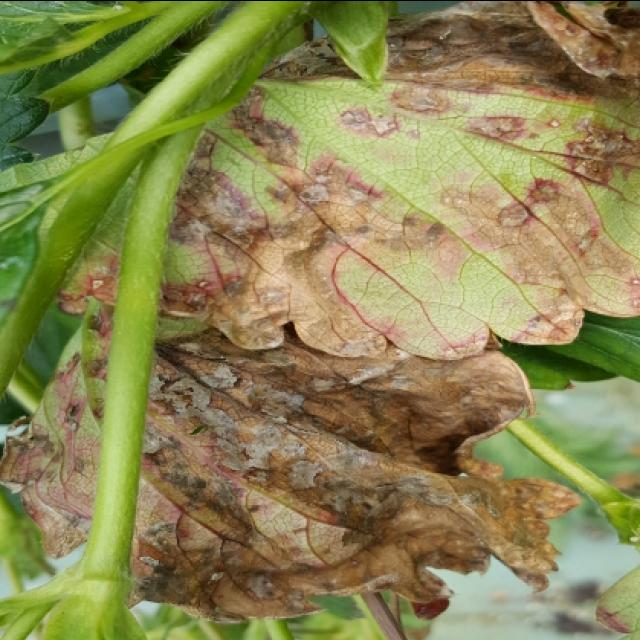Angular Leafspot: (40, 0, 638, 360), (0, 303, 581, 625), (524, 0, 638, 79)
